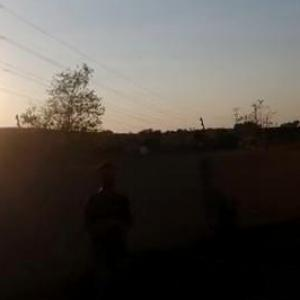follow: (80, 158, 142, 299)
